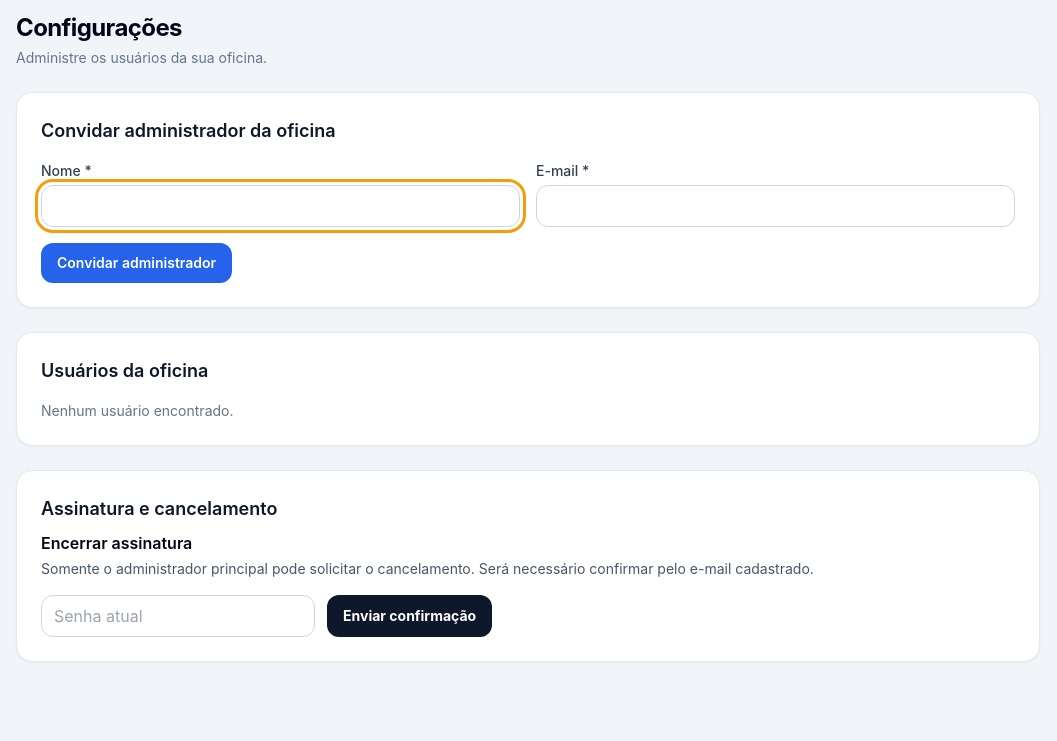
Test: Organization User settings › shows the server reason when the workshop reached its administrator limit
Type "Novo Admin" into the field named "Nome do usuário". click: x=280, y=206
box: [41,185,520,227]
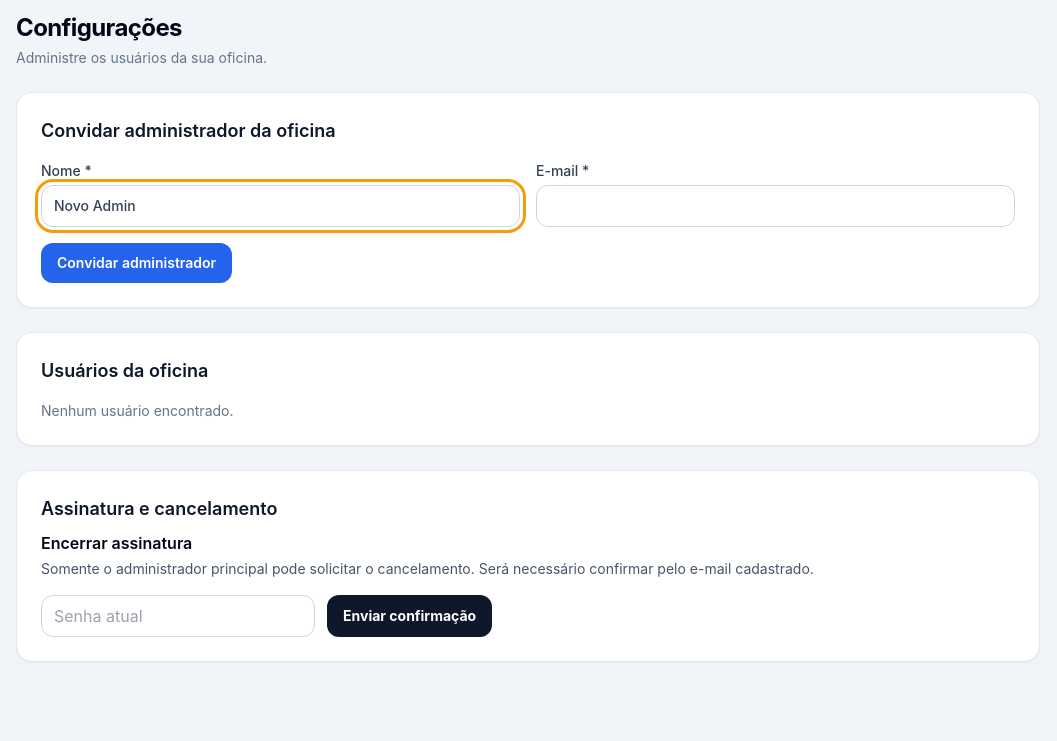
Type "novo@example.com" into the field named "E-mail do usuário". click: x=776, y=206
box: [536,185,1015,227]
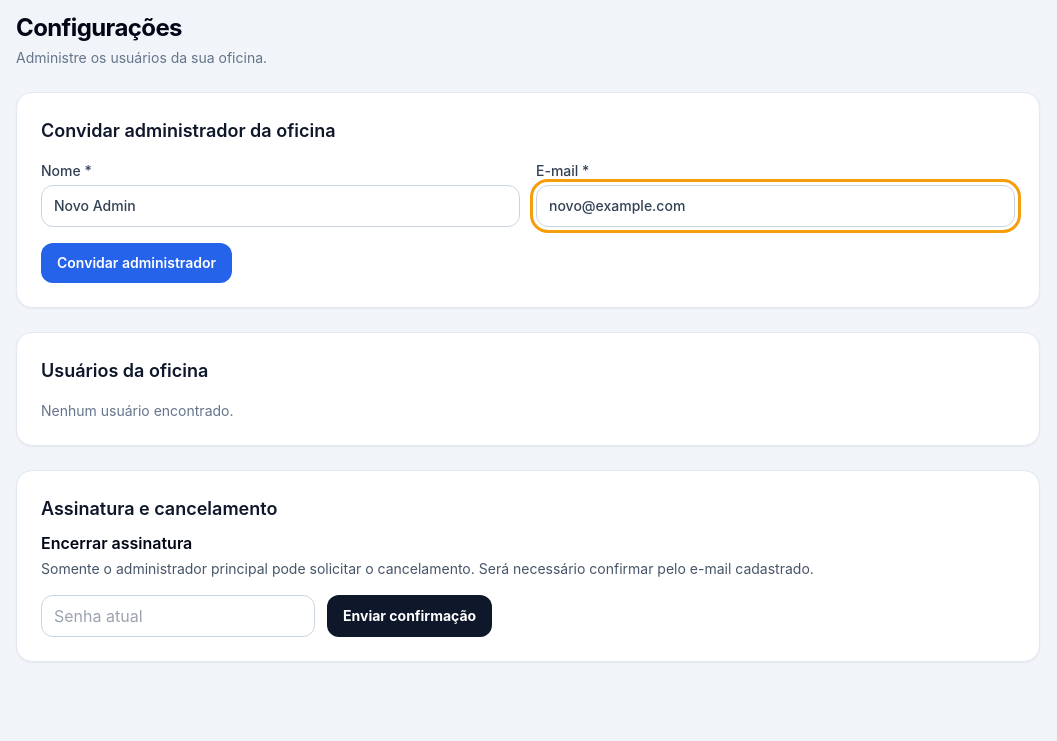
Click the button "Convidar administrador". click: x=137, y=263
box: [41,243,232,283]
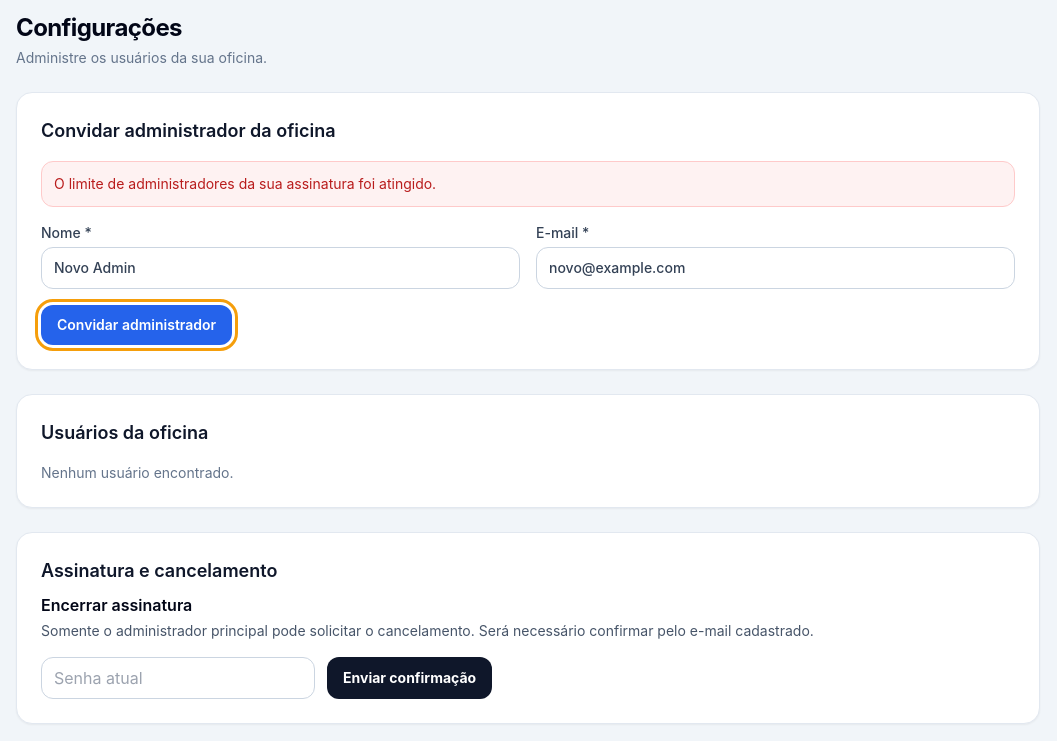
Expected: the message reads "O limite de administradores da sua assinatura foi atingido.", [54,175,436,192]
